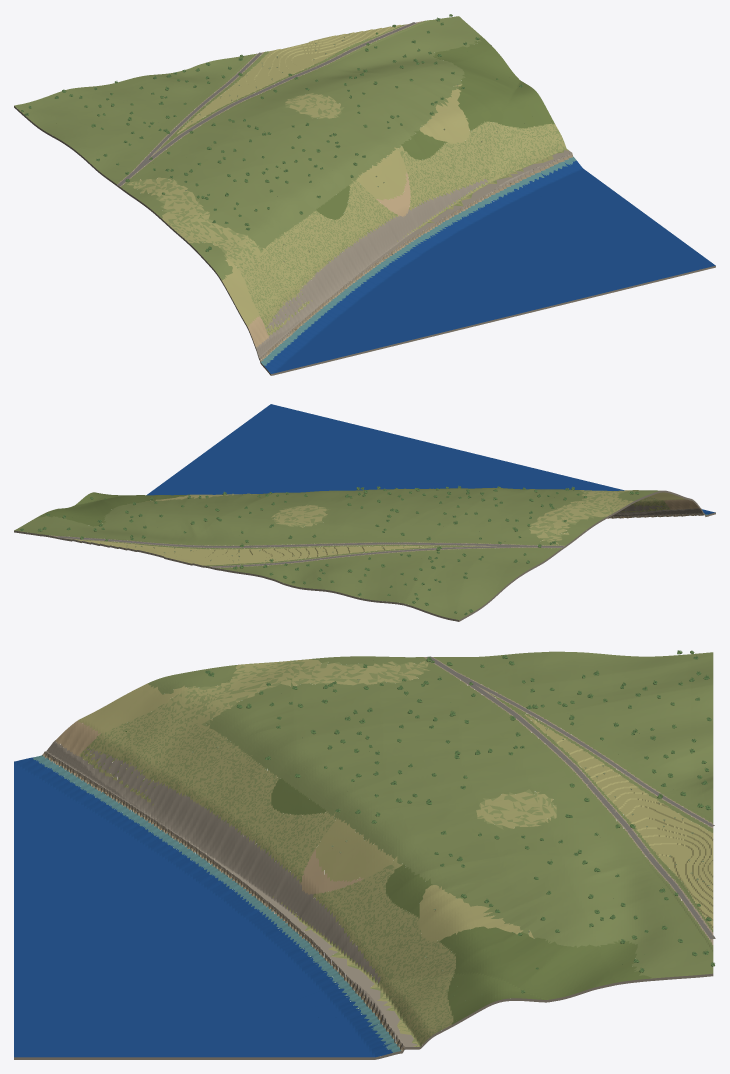
File: parca_+9_-8-yakin.glb
The picture shows the model from 3 angles, top to bottom: view 1: azimuth 30°, elevation 25°; view 2: azimuth 150°, elevation 25°; view 3: azimuth 270°, elevation 25°; orthographic projection. The views are drawn at different scales.
Visible parts, largest first — view 1: parca_+9_-8_arazi, parca_+9_-8_bitkiler, parca_+9_-8_yollar; view 2: parca_+9_-8_arazi, parca_+9_-8_bitkiler, parca_+9_-8_yollar; view 3: parca_+9_-8_arazi, parca_+9_-8_bitkiler, parca_+9_-8_yollar.
Part boxes in pixels (<box>): parca_+9_-8_arazi: <box>14,16,715,375</box>; parca_+9_-8_bitkiler: <box>21,14,551,300</box>; parca_+9_-8_yollar: <box>117,22,416,185</box>; parca_+9_-8_arazi: <box>14,404,715,621</box>; parca_+9_-8_bitkiler: <box>20,485,645,615</box>; parca_+9_-8_yollar: <box>57,536,563,567</box>; parca_+9_-8_arazi: <box>14,651,713,1059</box>; parca_+9_-8_bitkiler: <box>125,650,714,1025</box>; parca_+9_-8_yollar: <box>426,656,715,939</box>.
Size of the model in its own units: 1004 by 190 by 1004.
